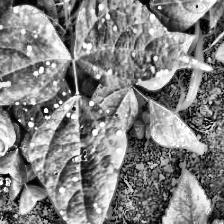Bean Rust: (22, 92, 126, 224), (74, 0, 210, 88), (0, 7, 72, 103)
